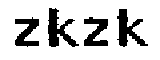k: (46, 6, 80, 50), (117, 6, 151, 50)
z: (81, 14, 112, 50), (12, 15, 42, 49)
